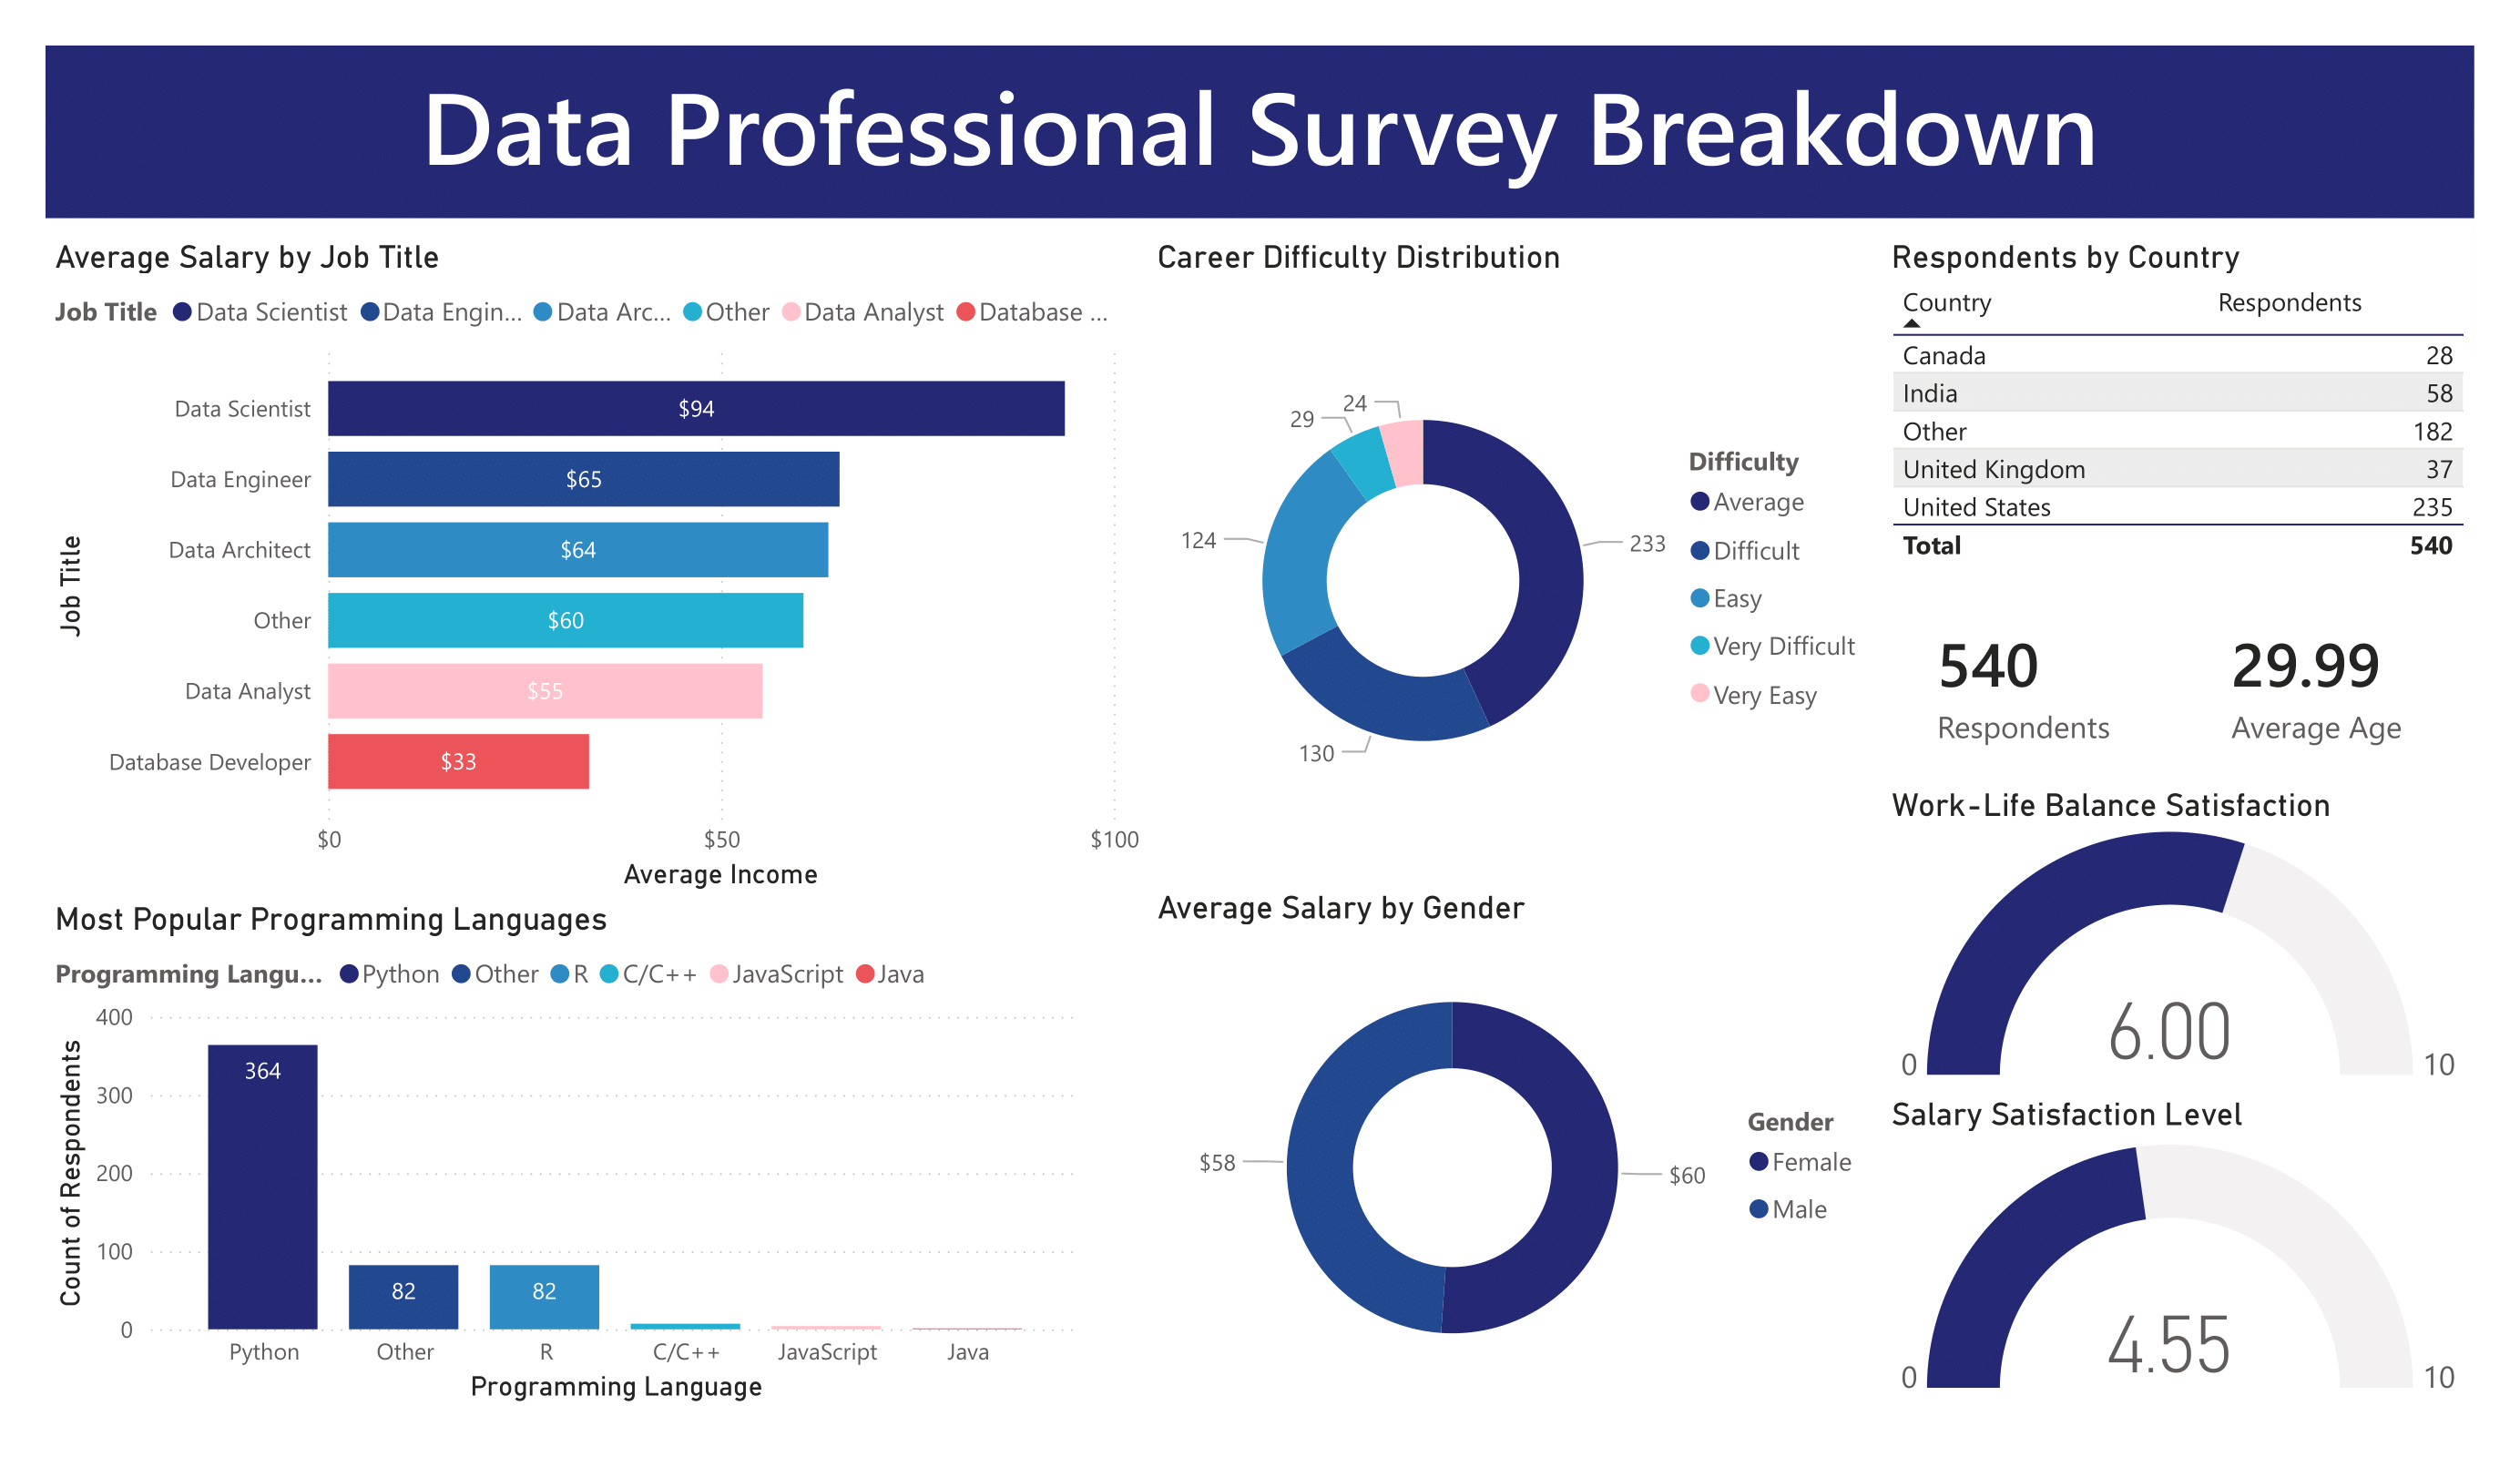

Layout of this report page (visuals, bound fields, positions):
{"tool":"powerbi","page":{"name":"Page 1","canvas":[1280,720],"ordinal":0},"visuals":[{"type":"textbox","box":[0,0,1280,91.4],"z":0},{"type":"cardVisual","fields":{"Data":["CountNonNull(Data Professional Survey.Unique ID)"]},"box":[967.8,282.1,160.5,108],"z":1000},{"type":"cardVisual","fields":{"Data":["Avg(Data Professional Survey.Q10 - Current Age)"]},"box":[1123.4,282.1,156.6,108],"z":2000},{"type":"barChart","title":"Average Salary by Job Title","fields":{"Category":["Data Professional Survey.Q1 - Which Title Best Fits your Current Role?.1"],"Y":["Avg(Data Professional Survey.Average Income)"],"Series":["Data Professional Survey.Q1 - Which Title Best Fits your Current Role?.1"]},"box":[0,101,581,349],"z":3000},{"type":"columnChart","title":"Favorite Programming Language","fields":{"Y":["CountNonNull(Data Professional Survey.Unique ID)"],"Category":["Data Professional Survey.Q5 - Favorite Programming Language.1"],"Series":["Data Professional Survey.Q5 - Favorite Programming Language.1"]},"box":[0,450,551,270],"z":4000},{"type":"tableEx","title":"Country of Respondents","fields":{"Values":["Data Professional Survey.Q11 - Which Country do you live in?.1","CountNonNull(Data Professional Survey.Q11 - Which Country do you live in?.1)"]},"box":[968,101,312,181],"z":5000},{"type":"gauge","title":"Happy With Work/Life Balance","fields":{"MaxValue":["Max(Data Professional Survey.Q6 - How Happy are you in your Current Position with the following? (Work/Life Balance))"],"MinValue":["Min(Data Professional Survey.Q6 - How Happy are you in your Current Position with the following? (Work/Life Balance))"],"Y":["Avg(Data Professional Survey.Q6 - How Happy are you in your Current Position with the following? (Work/Life Balance))1"]},"box":[982,390,298,163],"z":6000},{"type":"gauge","title":"Happiness With Salary","fields":{"Y":["Avg(Data Professional Survey.Q6 - How Happy are you in your Current Position with the following? (Salary))"],"MinValue":["Min(Data Professional Survey.Q6 - How Happy are you in your Current Position with the following? (Salary))1"],"MaxValue":["Max(Data Professional Survey.Q6 - How Happy are you in your Current Position with the following? (Salary))"]},"box":[982,553,298,167],"z":7000},{"type":"donutChart","title":"Average Salary by Sex","fields":{"Category":["Data Professional Survey.Q9 - Male/Female?"],"Y":["Avg(Data Professional Survey.Average Income)"]},"box":[580.7,443.5,387.1,276.2],"z":8000},{"type":"donutChart","title":"Average Salary by Sex","fields":{"Category":["Data Professional Survey.Q7 - How difficult was it for you to break into Data?"],"Y":["CountNonNull(Data Professional Survey.Q7 - How difficult was it for you to break into Data?)"]},"box":[580.7,101.2,387.1,342.4],"z":9000}]}

Visuals, with their boxes in screenshot pixels (x1, y1, x2, y2):
textbox: (46,46,2474,219)
cardVisual - CountNonNull(Data Professional Survey.Unique ID): (1882,581,2187,786)
cardVisual - Avg(Data Professional Survey.Q10 - Current Age): (2178,581,2474,786)
"Average Salary by Job Title" barChart: (46,237,1148,900)
"Favorite Programming Language" columnChart: (46,900,1091,1411)
"Country of Respondents" tableEx: (1882,237,2474,581)
"Happy With Work/Life Balance" gauge: (1909,786,2474,1095)
"Happiness With Salary" gauge: (1909,1095,2474,1411)
"Average Salary by Sex" donutChart: (1148,887,1882,1411)
"Average Salary by Sex" donutChart: (1148,238,1882,887)
